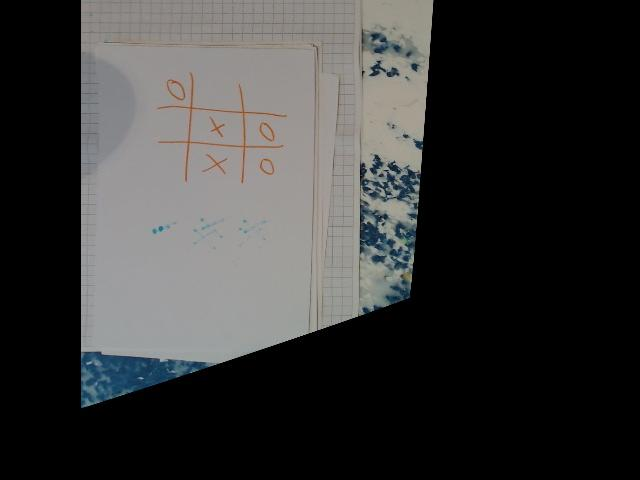O: (162, 77, 188, 104), (252, 154, 277, 178), (253, 119, 276, 143)
X: (200, 150, 230, 176), (202, 115, 226, 139)
grid: (156, 73, 284, 188)
